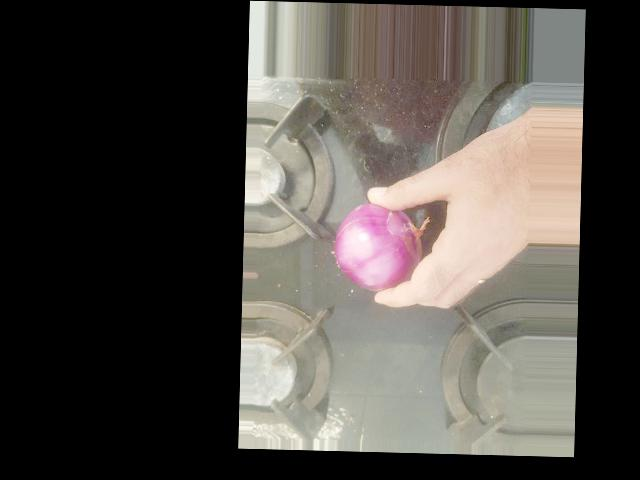onion: (287, 280, 376, 364)
